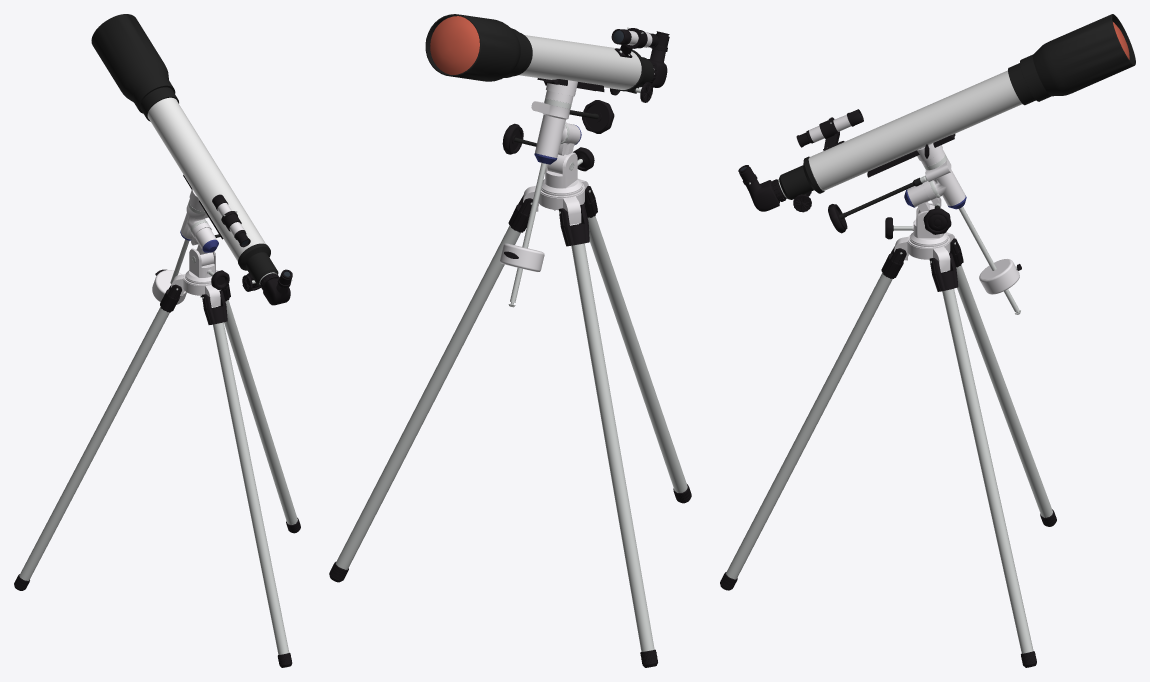
File: refractor_telescope.glb
The picture shows the model from 3 angles, left to right: view 1: azimuth 30°, elevation 25°; view 2: azimuth 150°, elevation 25°; view 3: azimuth 270°, elevation 25°; orthographic projection. The views are drawn at different scales.
Visible parts, largest first — view 1: Cylinder_White metal_0; view 2: Cylinder_White metal_0, Cylinder_Glass_gold_0; view 3: Cylinder_White metal_0.
Boxes of the visible parts, bbox=[...] form: Cylinder_White metal_0: bbox=[14, 14, 300, 667]; Cylinder_White metal_0: bbox=[329, 14, 691, 667]; Cylinder_Glass_gold_0: bbox=[430, 16, 623, 74]; Cylinder_White metal_0: bbox=[720, 14, 1135, 667].
Size of the model in its own units: 3.81 by 6.91 by 4.51.
2 materials, 2 textured.
